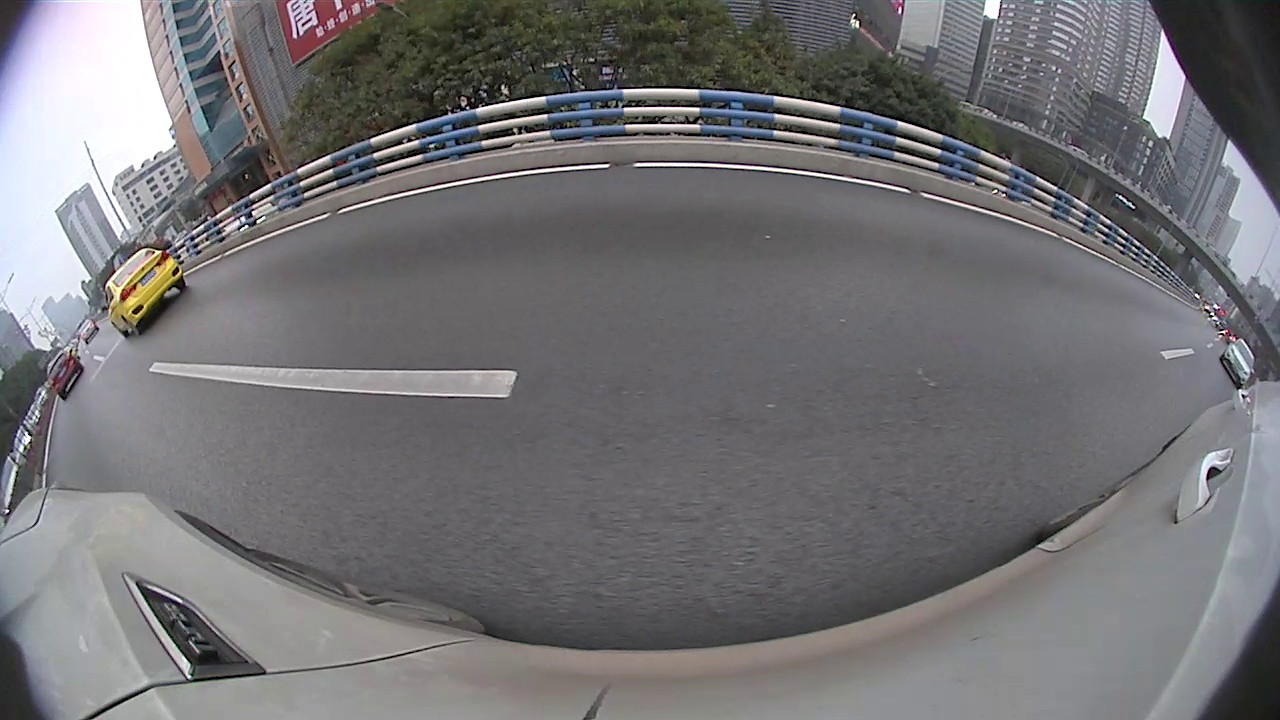bus: (721, 134, 821, 187)
car: (344, 154, 509, 252), (108, 247, 233, 327), (612, 136, 725, 211), (1, 317, 65, 410), (509, 160, 562, 199), (561, 162, 586, 187), (602, 160, 625, 185)
front: (493, 187, 506, 213)
person: (1245, 316, 1261, 387), (1193, 275, 1204, 335), (1219, 296, 1228, 325)
rear: (441, 201, 461, 237), (626, 180, 634, 208)
